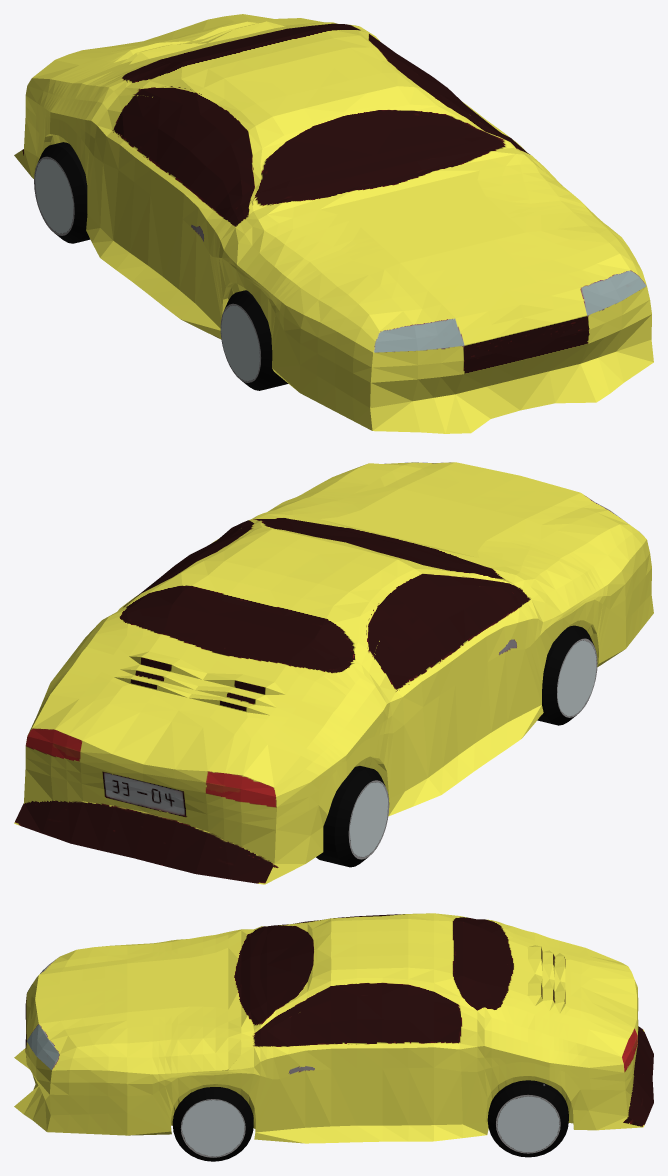
Rendered from GoalCar.obj.
3 views of the same model, one above another, from view 1: azimuth 30°, elevation 25°; view 2: azimuth 150°, elevation 25°; view 3: azimuth 270°, elevation 25° (orthographic). The views are drawn at different scales.
Visible parts, largest first — view 1: Cube, 円柱.001_円柱.003; view 2: Cube, 円柱.001_円柱.003; view 3: Cube, 円柱.001_円柱.003.
Boxes of the visible parts, x1,y1,x2,y2 form: Cube: [14, 14, 653, 433]; 円柱.001_円柱.003: [34, 142, 288, 390]; Cube: [14, 462, 653, 884]; 円柱.001_円柱.003: [316, 625, 597, 867]; Cube: [14, 913, 653, 1143]; 円柱.001_円柱.003: [172, 1080, 568, 1161].
Bounding box in the file's own units: 2.72 × 1.5 × 5.54.
Materials: 2 (2 with a texture image).
